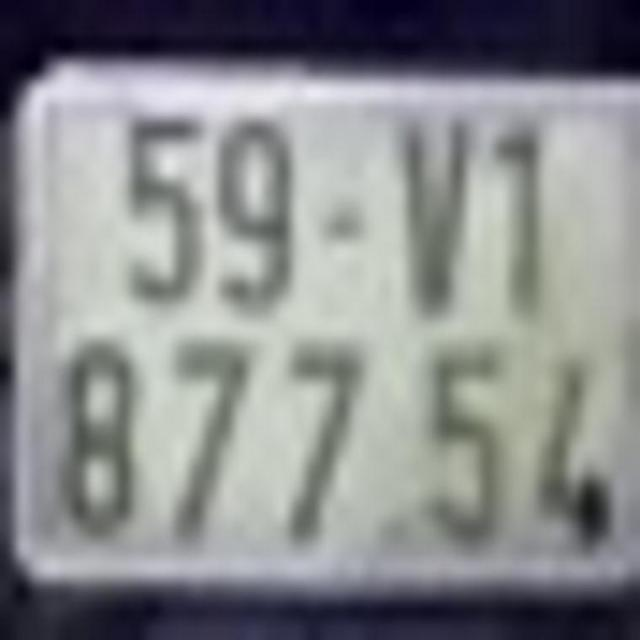1: (497, 113, 546, 322)
4: (531, 343, 624, 556)
5: (123, 113, 208, 297), (433, 339, 507, 543)
7: (163, 323, 260, 559), (280, 326, 372, 556)
8: (57, 332, 138, 543)
V: (387, 109, 480, 318)
